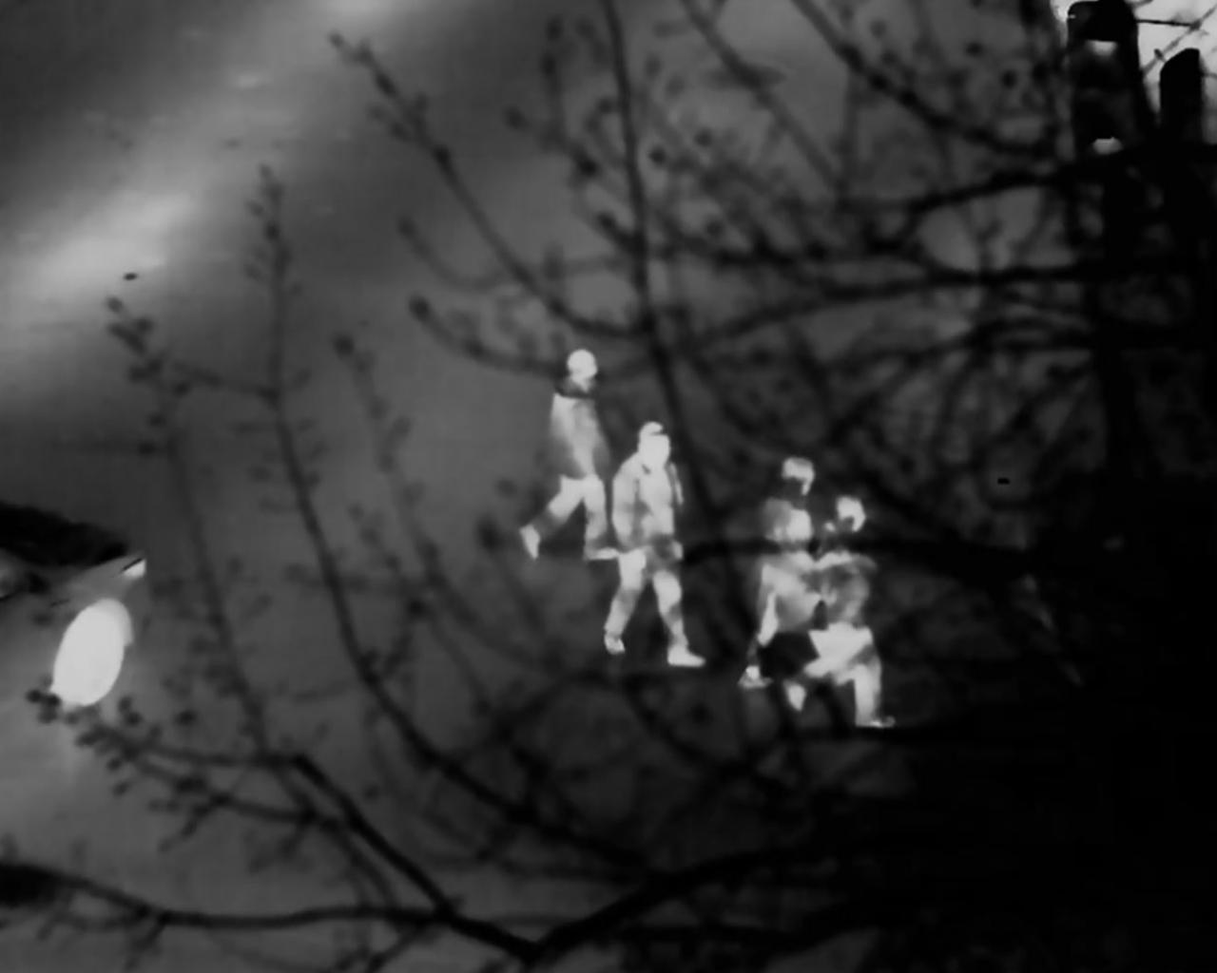person: (728, 457, 830, 692), (599, 423, 688, 684), (525, 340, 615, 559), (808, 487, 889, 728)
